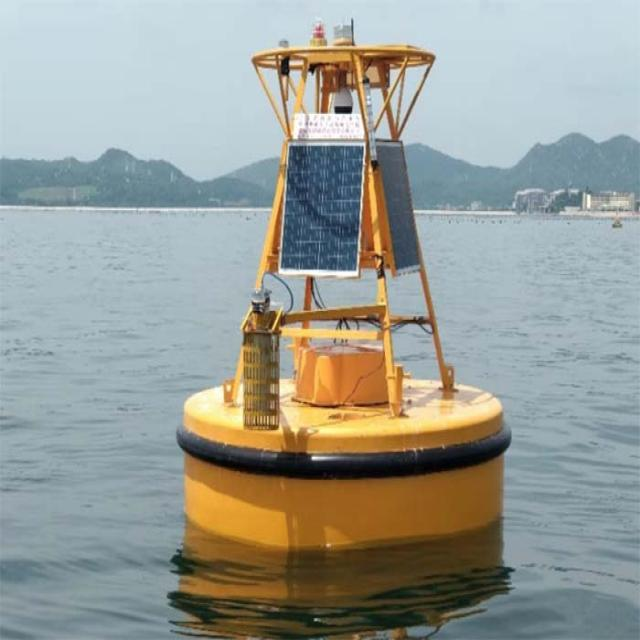buoy: (185, 16, 515, 558)
